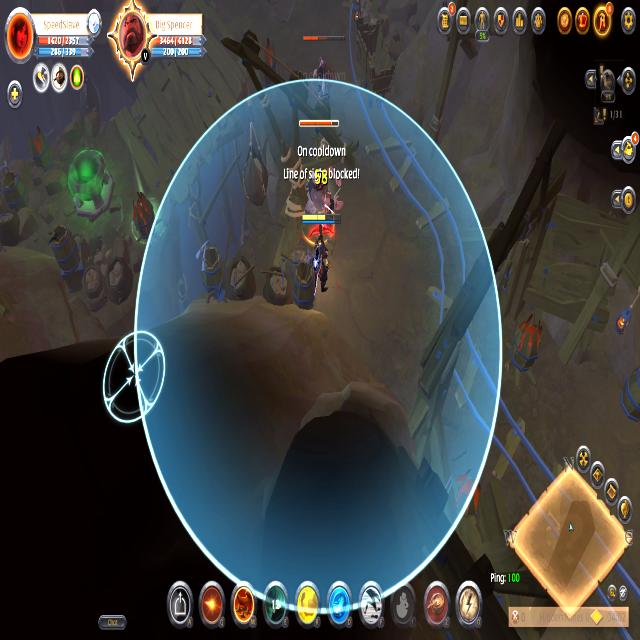ore: (298, 117, 346, 231), (300, 31, 346, 122)
red: (302, 210, 342, 302)
